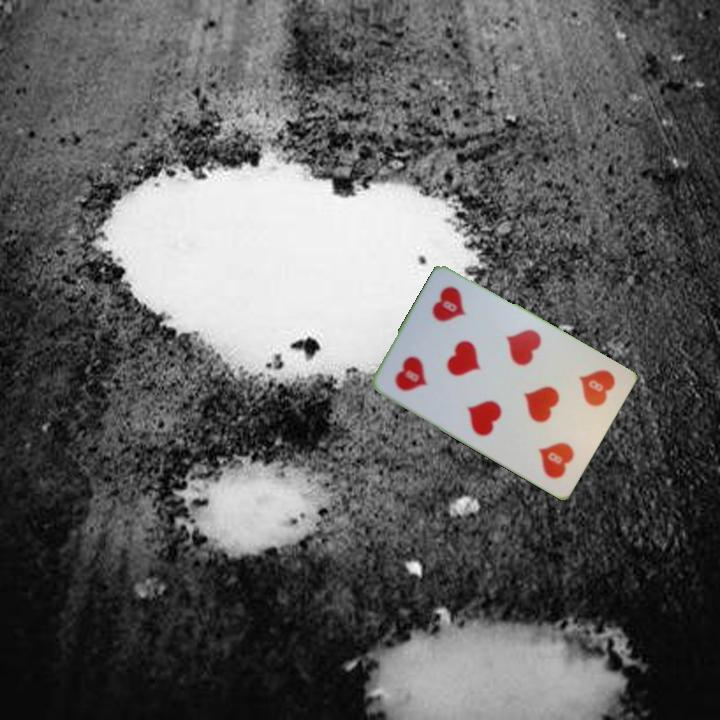h_8.png: (543, 350, 625, 435), (380, 326, 461, 411)
